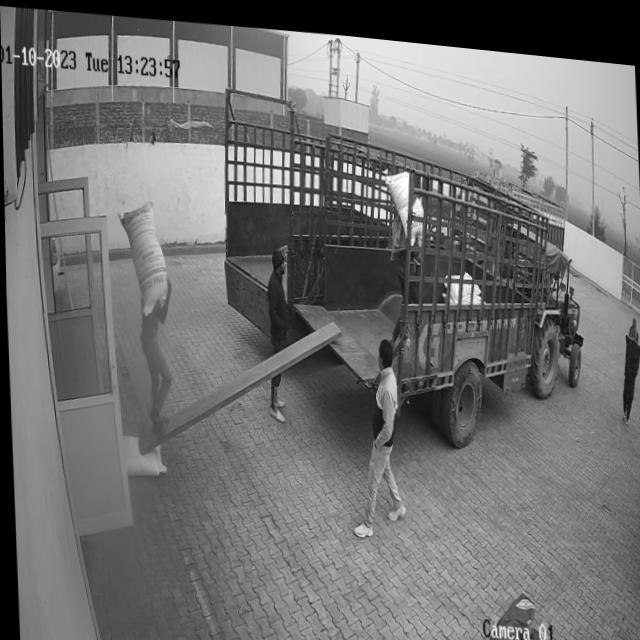sack: (115, 194, 166, 315), (122, 431, 165, 476)
